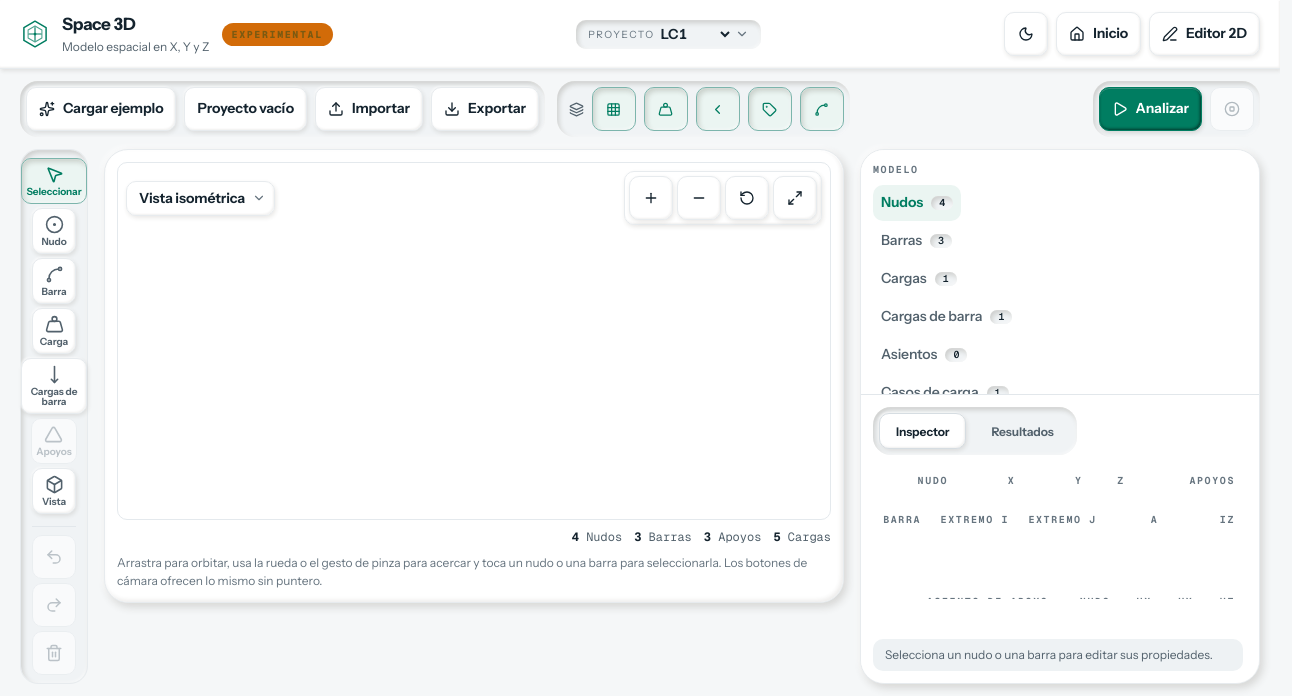
Space3DWorkspace end to end › crea un nudo con coordenada Z y lo publica en la tabla
Click the button with aria-label "nuevo nodo". click: (54, 231)
box: x1=32 y1=208 x2=76 y2=254
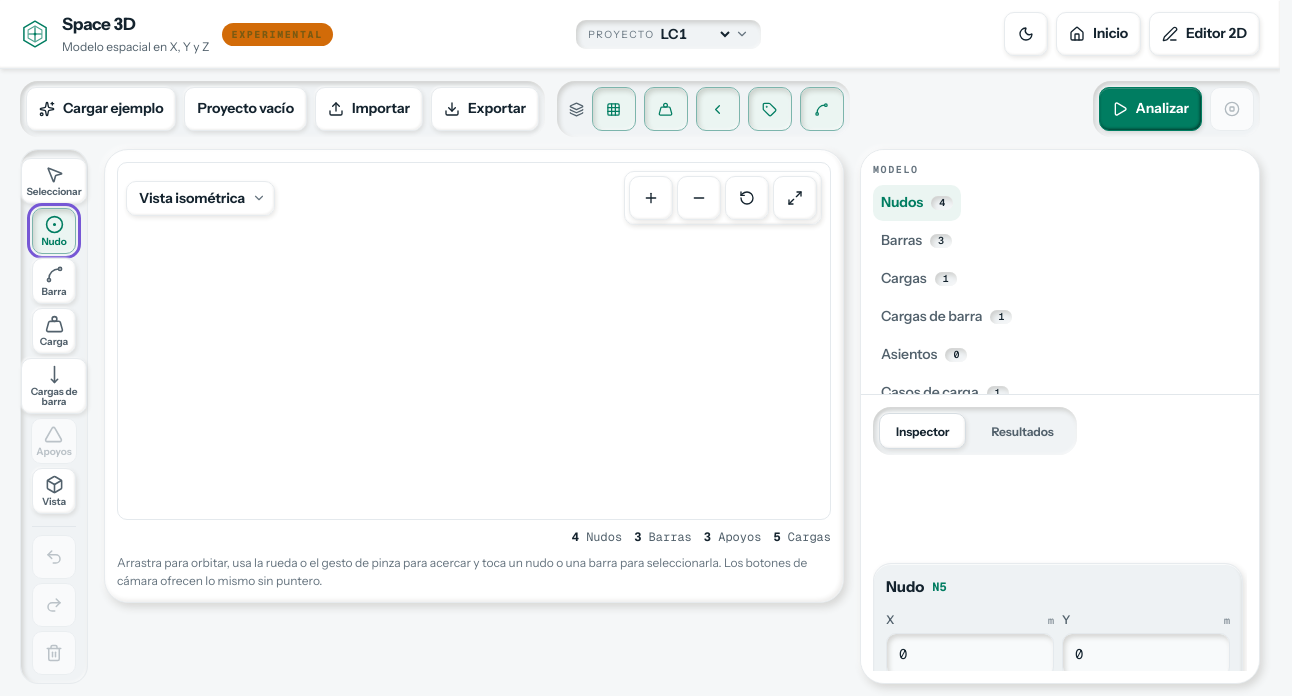
Clear the field labelled "X". click: (970, 654)
box: x1=886 y1=632 x2=1054 y2=676
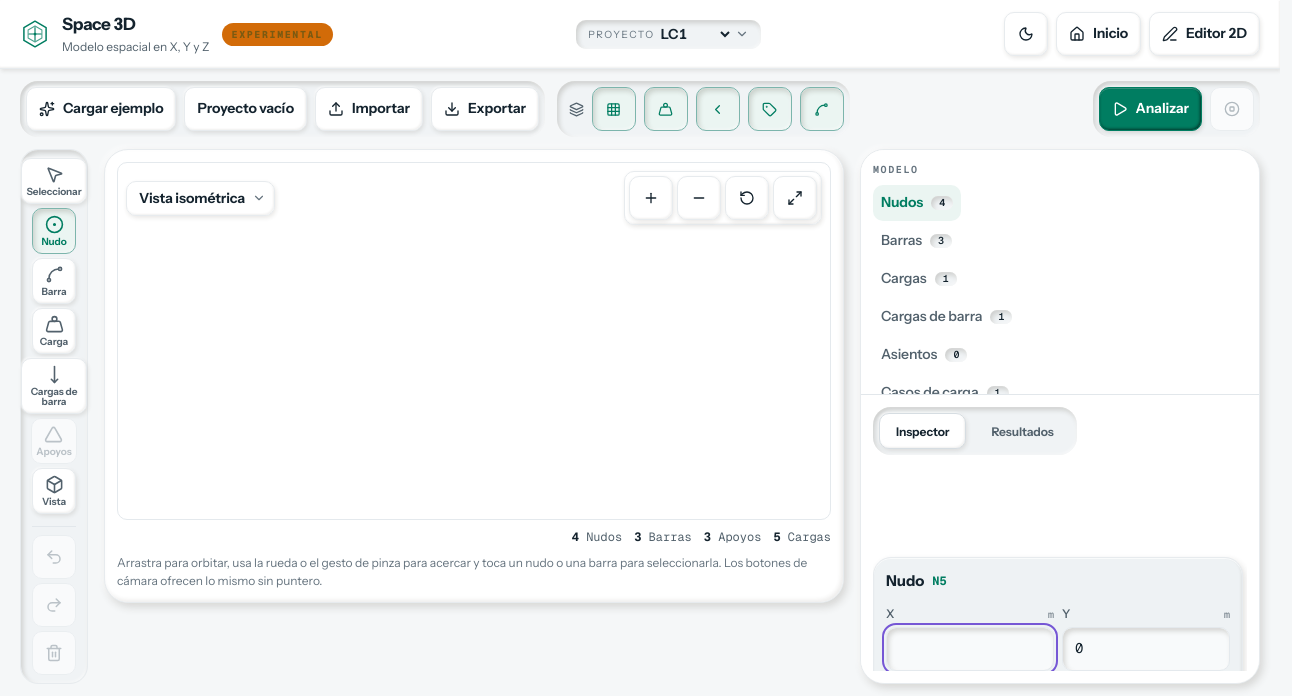
Type "1.5" into the field labelled "X". click: (970, 648)
box: x1=886 y1=626 x2=1054 y2=670
(page scrolled)
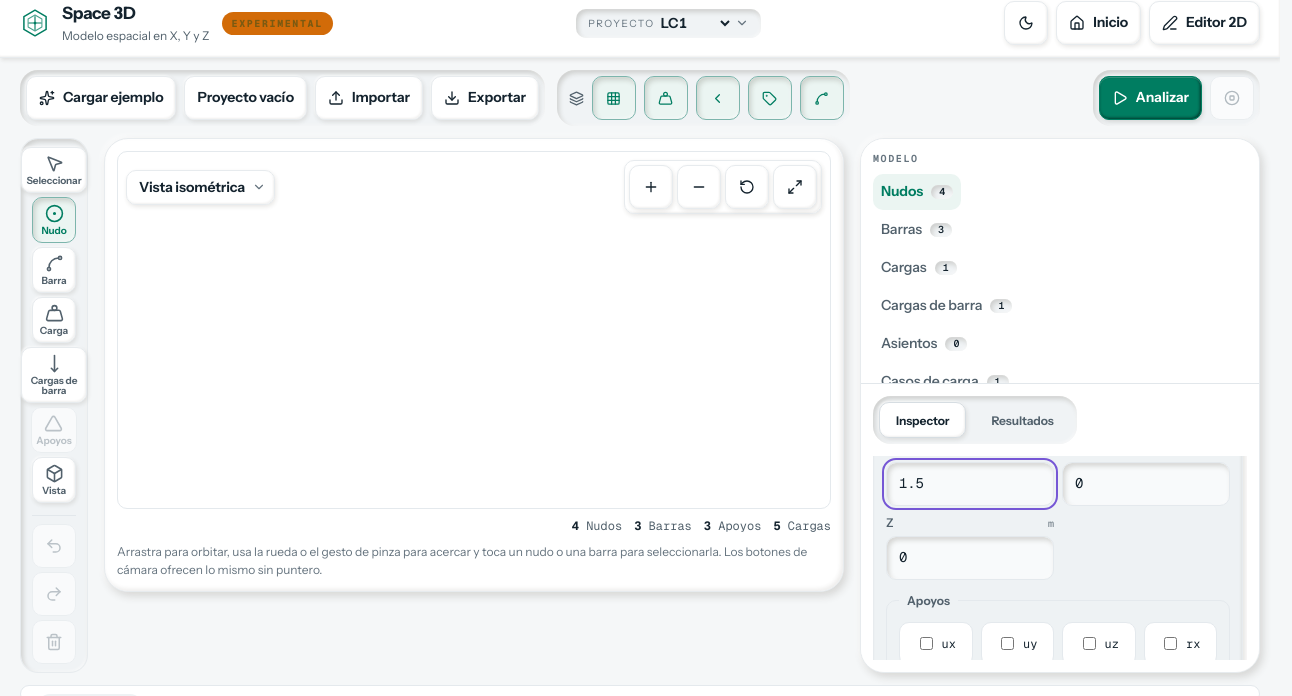
Replace the text in the field labelled "Z" with "3". click: (970, 558)
box: x1=886 y1=536 x2=1054 y2=580
(page scrolled)
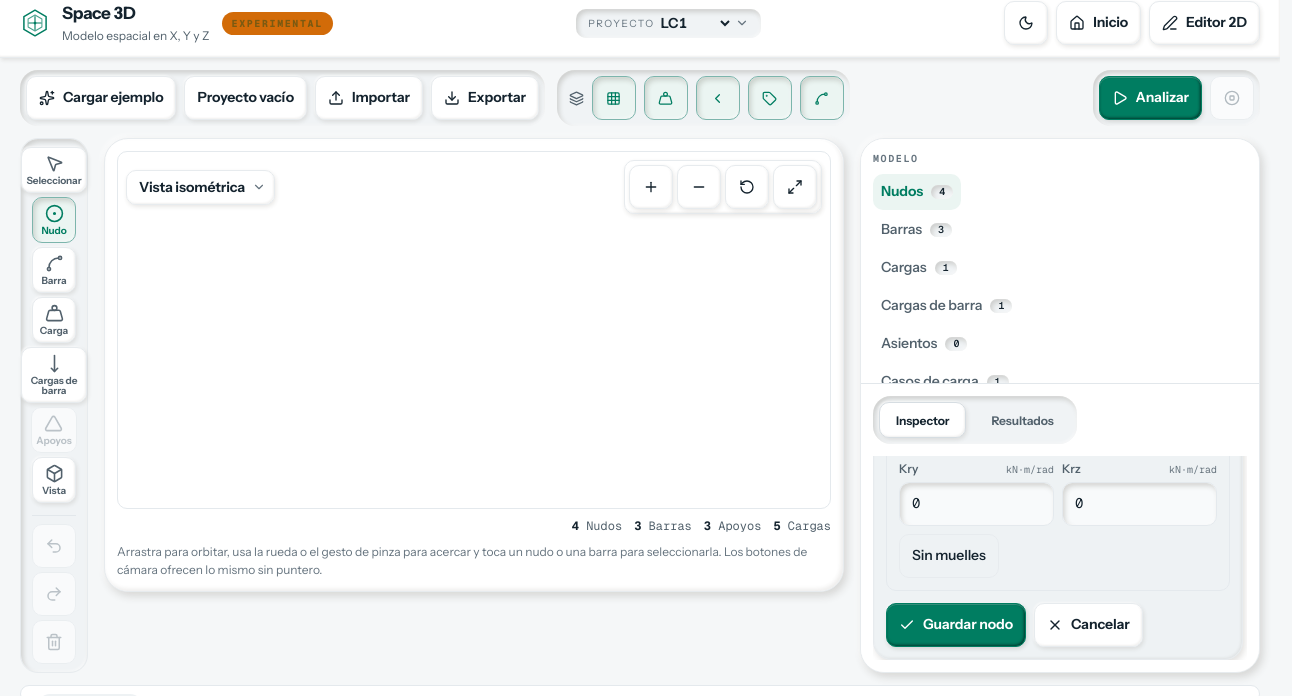
Click the button "Guardar nodo". click: (956, 624)
box: x1=886 y1=602 x2=1026 y2=646
(page scrolled)
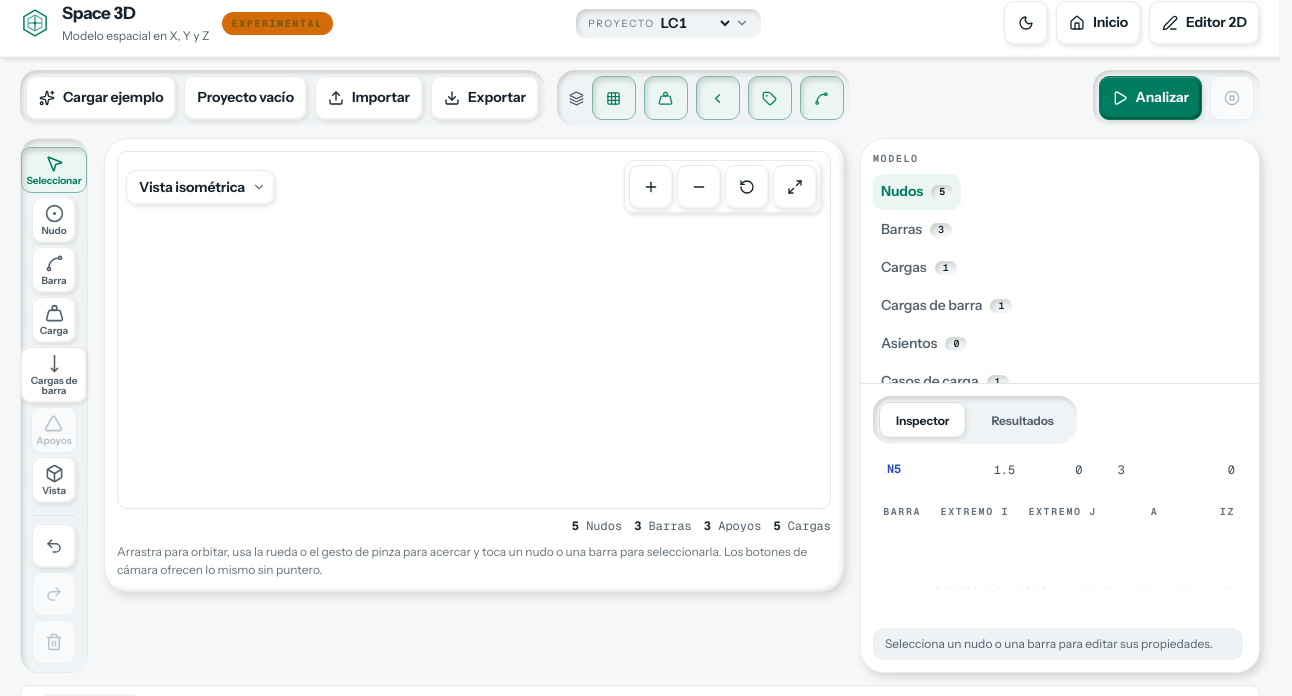
Now the row "N5 1.5 0 3 0" is shown, box x1=1118 y1=462 x2=1125 y2=478
